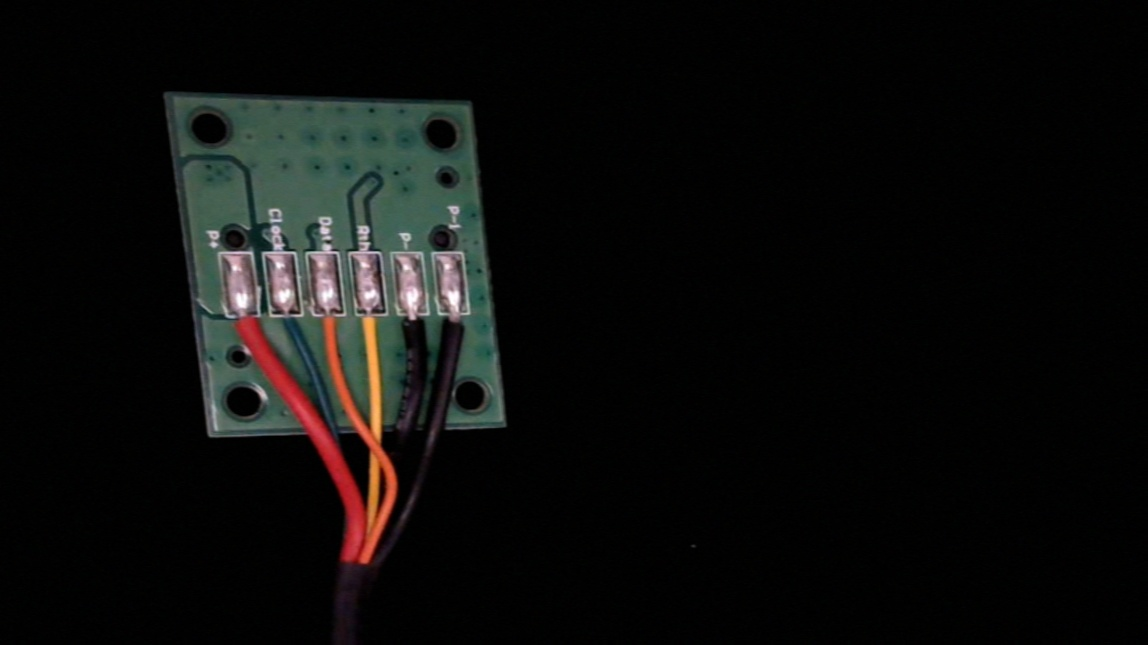Black: (393, 298, 436, 371)
Black1: (438, 300, 479, 366)
Green: (265, 297, 309, 367)
Orange: (312, 297, 354, 369)
Red: (223, 296, 267, 366)
Yellow: (351, 297, 395, 371)
